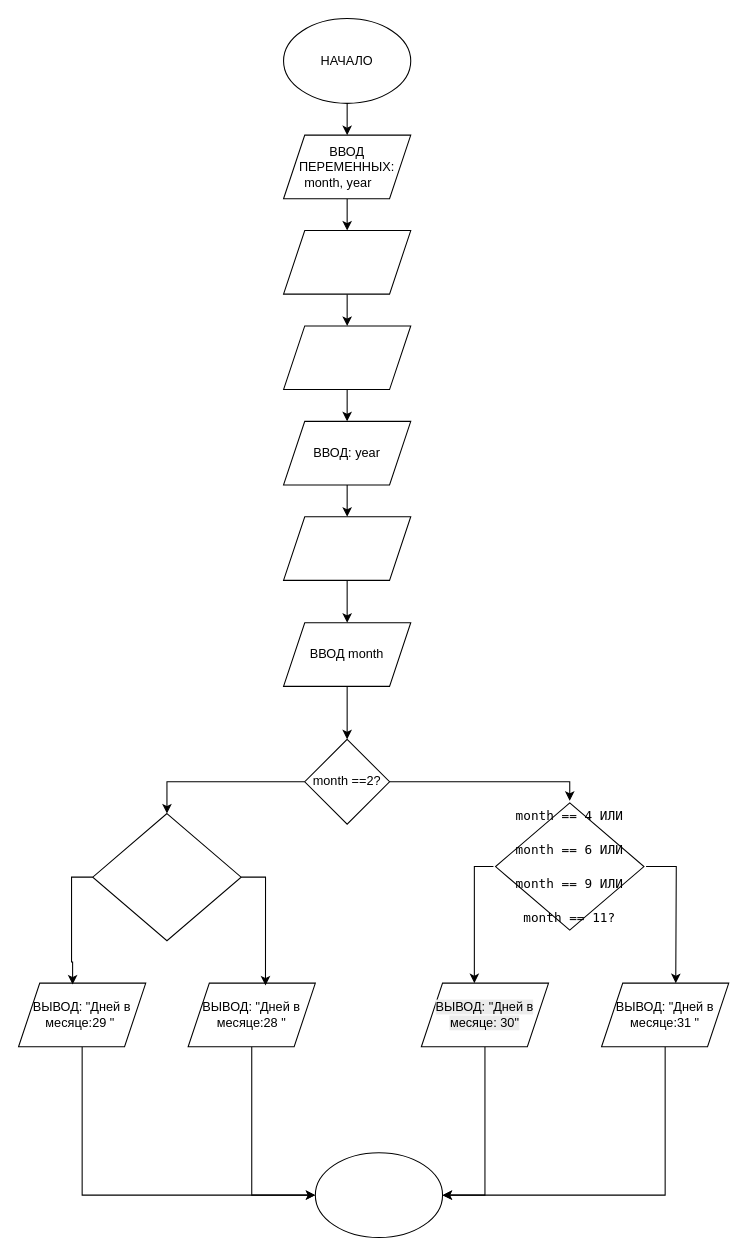
This 747x1256 diagram has some shape labels left out. The box of each missing label's shape, as (x1, y1, x2, y2) in pixels:
year == 1 ?: (92, 812, 241, 941)
ВЫВОД: "Введите номер месяца (1-12):": (282, 516, 411, 580)
ВЫВОД: "Год високосный? (1 - да, 0 - нет)": (282, 325, 411, 390)
ВЫВОД: "Определение количества дней в месяце": (282, 229, 411, 294)
КОНЕЦ: (314, 1152, 443, 1238)
